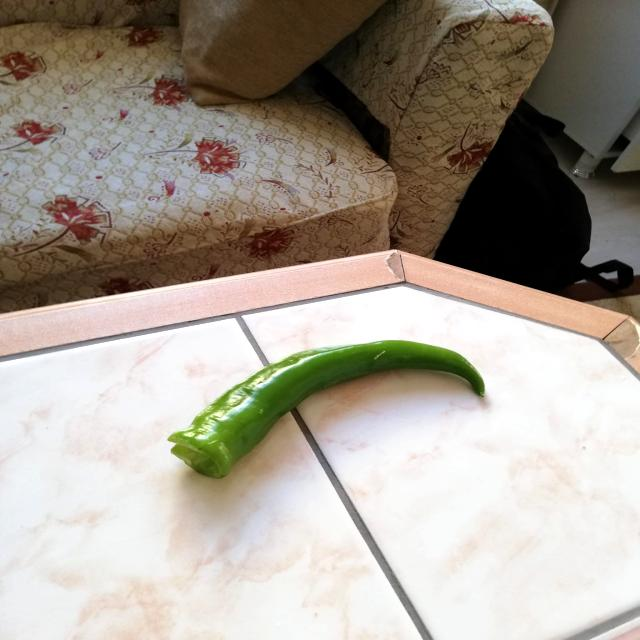green pepper: (165, 336, 493, 484)
